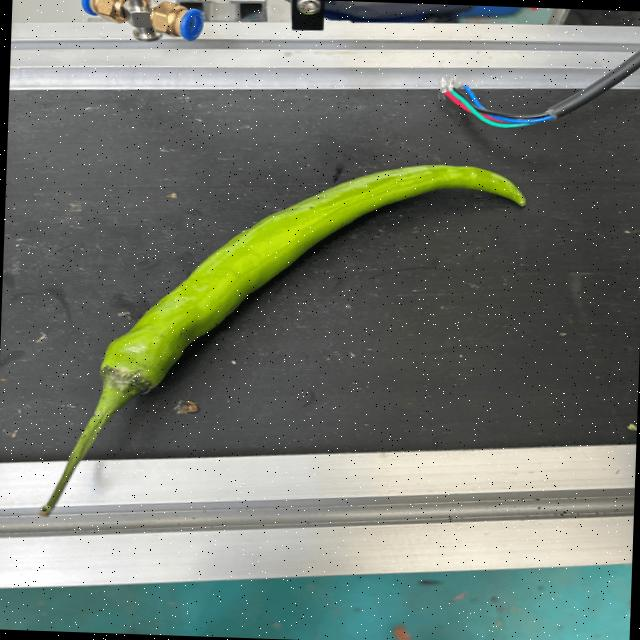chili: (96, 164, 527, 397)
